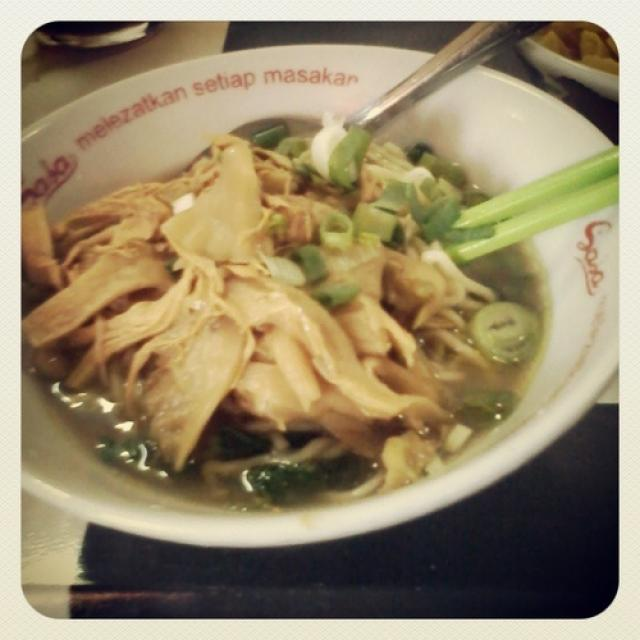面条主食: (26, 87, 588, 517)
